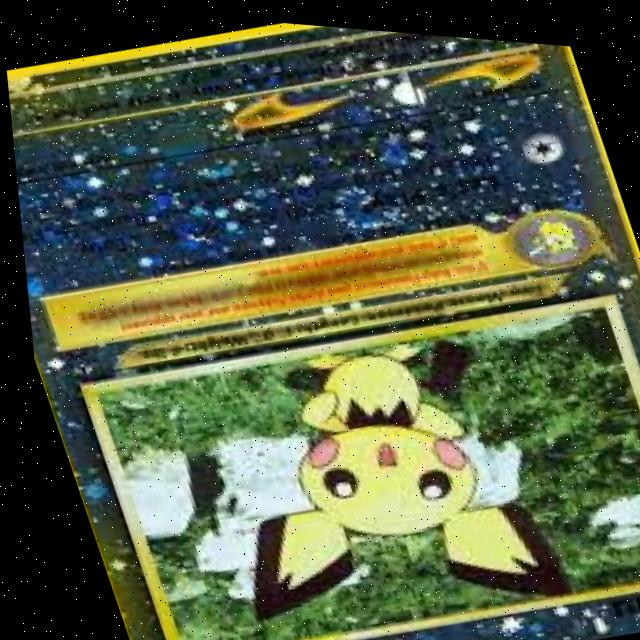pichu: (150, 299, 568, 640)
